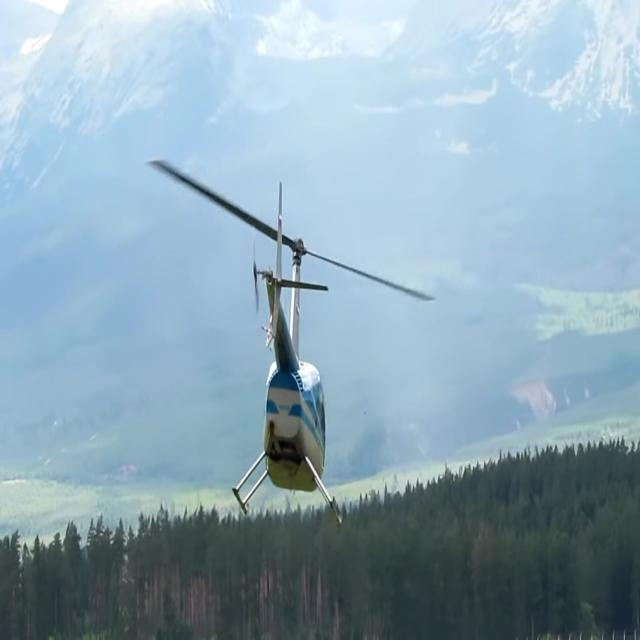CIV_HELO: (232, 181, 346, 528)
